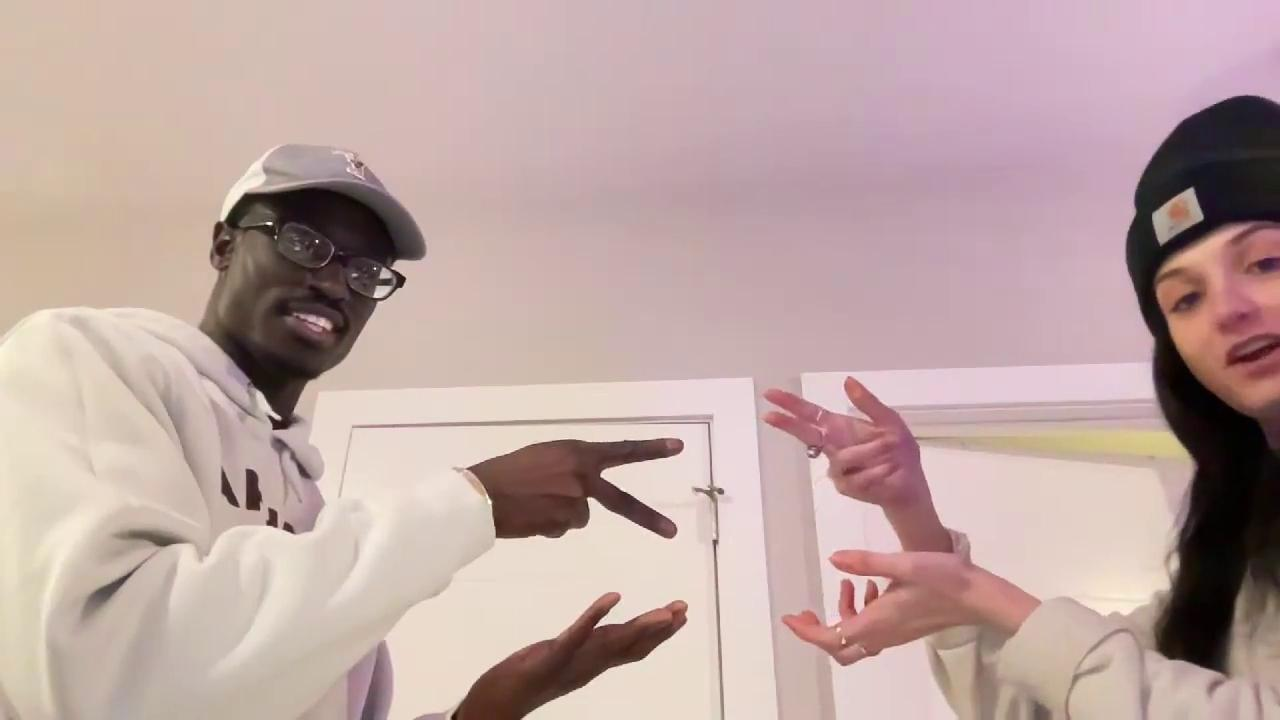Scissors: (762, 377, 930, 504), (487, 435, 683, 538)
